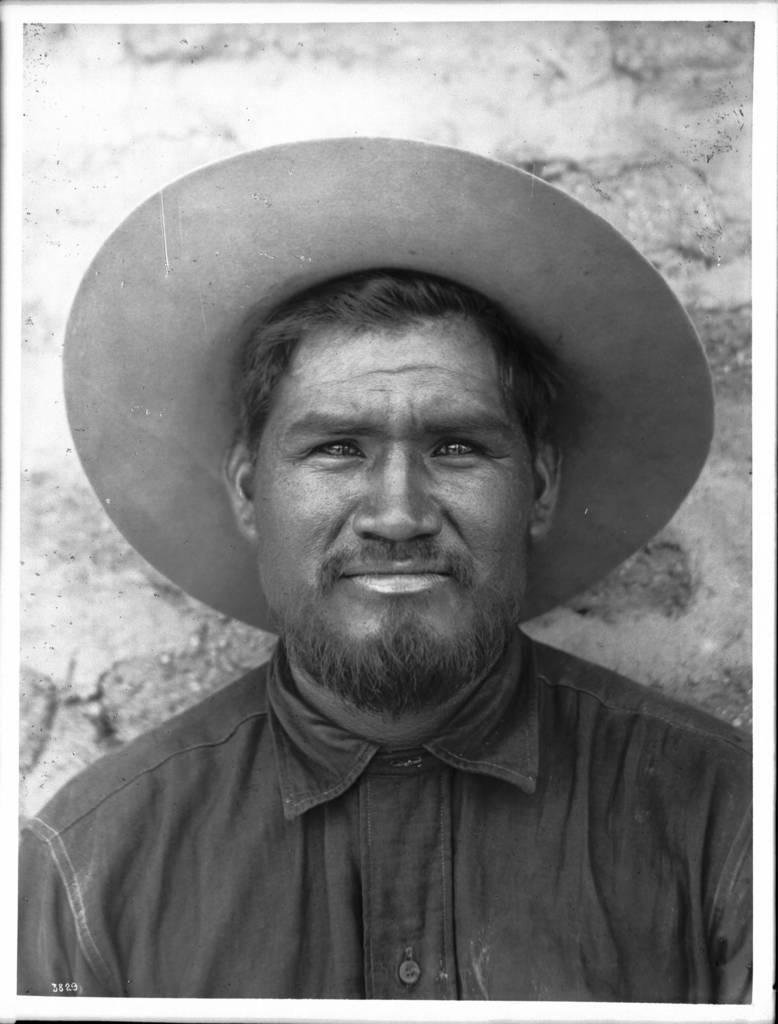Hat: (59, 130, 718, 638)
